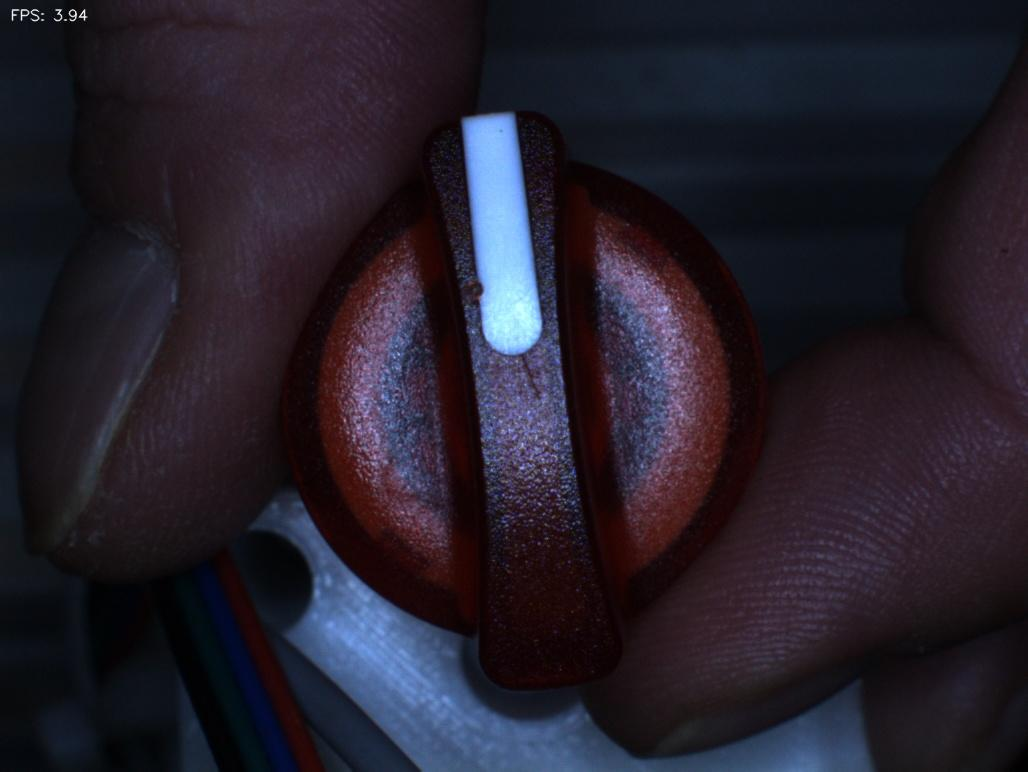Choc: (429, 244, 513, 336)
